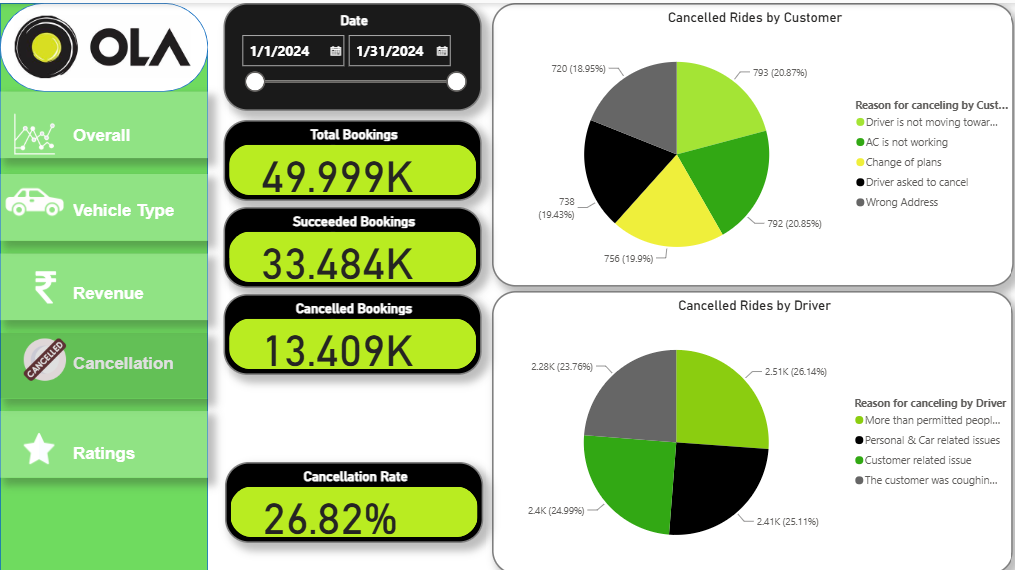

This screenshot's page, from the dashboard's own definition file:
{"tool":"powerbi","page":{"name":"Cancellation","canvas":[1280,720],"ordinal":3},"visuals":[{"type":"shape","box":[0,0,261.9,720.6],"z":0},{"type":"image","box":[0,133.3,87.3,61.9],"z":1000},{"type":"textbox","box":[87.3,149.2,104.8,46],"z":2000},{"type":"textbox","box":[87.3,244.4,157.1,54],"z":3000},{"type":"textbox","box":[87.3,347.6,174.6,36.5],"z":4000},{"type":"textbox","box":[87.3,436.5,146,39.7],"z":5000},{"type":"textbox","box":[87.3,549.2,174.6,41.3],"z":6000},{"type":"image","box":[0,214.3,87.3,84.1],"z":7000},{"type":"image","box":[0,333.3,115.9,50.8],"z":8000},{"type":"image","box":[23.8,412.7,63.5,74.6],"z":9000},{"type":"image","box":[23.8,530.2,49.2,60.3],"z":10000},{"type":"actionButton","box":[0,412.9,262.3,93.9],"z":11000},{"type":"actionButton","box":[0,111.7,262.3,84.2],"z":12000},{"type":"actionButton","box":[0,215.4,262.3,84.2],"z":13000},{"type":"actionButton","box":[0,514.9,262.3,84.2],"z":14000},{"type":"actionButton","box":[0,315.9,261.9,84.1],"z":15000},{"type":"shape","box":[0,0,262.3,111.7],"z":16000},{"type":"image","box":[12.7,0,231.7,111.1],"z":17000},{"type":"actionButton","box":[0,416.1,262.3,82.6],"z":18000},{"type":"pieChart","title":"Cancelled Rides by Customer","fields":{"Category":["indore ola dataset(1).Reason for canceling by Customer"],"Y":["CountNonNull(indore ola dataset(1).Reason for canceling by Customer)"]},"box":[620.6,0,658.7,357.1],"z":19000},{"type":"pieChart","title":"Cancelled Rides by Driver","fields":{"Category":["indore ola dataset(1).Reason for canceling by Driver"],"Y":["CountNonNull(indore ola dataset(1).Reason for canceling by Driver)"]},"box":[619.8,362.8,657.6,357.2],"z":20000},{"type":"slicer","title":"Date","fields":{"Values":["indore ola dataset(1).Date"]},"box":[281.7,0,325.5,136],"z":21000},{"type":"cardVisual","title":"Total Bookings","fields":{"Data":["CountNonNull(indore ola dataset(1).Booking ID)"]},"box":[281.6,147.4,325,102],"z":22000},{"type":"cardVisual","title":"Succeeded Bookings","fields":{"Data":["CountNonNull(indore ola dataset(1).Booking ID)"]},"box":[281.6,257,325,102],"z":23000},{"type":"cardVisual","title":"Cancelled Bookings","fields":{"Data":["CountNonNull(indore ola dataset(1).Booking ID)"]},"box":[281.6,366.6,325,102],"z":24000},{"type":"cardVisual","title":"Cancellation Rate","fields":{"Data":["indore ola dataset(1).Canceledbookings"]},"box":[283.4,578.1,325.5,102],"z":25001}]}

Visuals, with their boxes in screenshot pixels (x1, y1, x2, y2), scaled from the page's 1280x720 canvas onto the 1015x570 screenshot:
shape: rect(0, 0, 208, 569)
image: rect(0, 106, 69, 155)
textbox: rect(69, 118, 152, 155)
textbox: rect(69, 193, 194, 236)
textbox: rect(69, 275, 208, 304)
textbox: rect(69, 346, 185, 377)
textbox: rect(69, 435, 208, 467)
image: rect(0, 170, 69, 236)
image: rect(0, 264, 92, 304)
image: rect(19, 327, 69, 386)
image: rect(19, 420, 58, 467)
actionButton: rect(0, 327, 208, 401)
actionButton: rect(0, 88, 208, 155)
actionButton: rect(0, 171, 208, 237)
actionButton: rect(0, 408, 208, 474)
actionButton: rect(0, 250, 208, 317)
shape: rect(0, 0, 208, 88)
image: rect(10, 0, 194, 88)
actionButton: rect(0, 329, 208, 395)
"Cancelled Rides by Customer" pieChart: rect(492, 0, 1014, 283)
"Cancelled Rides by Driver" pieChart: rect(491, 287, 1013, 569)
"Date" slicer: rect(223, 0, 481, 108)
"Total Bookings" cardVisual: rect(223, 117, 481, 197)
"Succeeded Bookings" cardVisual: rect(223, 203, 481, 284)
"Cancelled Bookings" cardVisual: rect(223, 290, 481, 371)
"Cancellation Rate" cardVisual: rect(225, 458, 483, 538)
